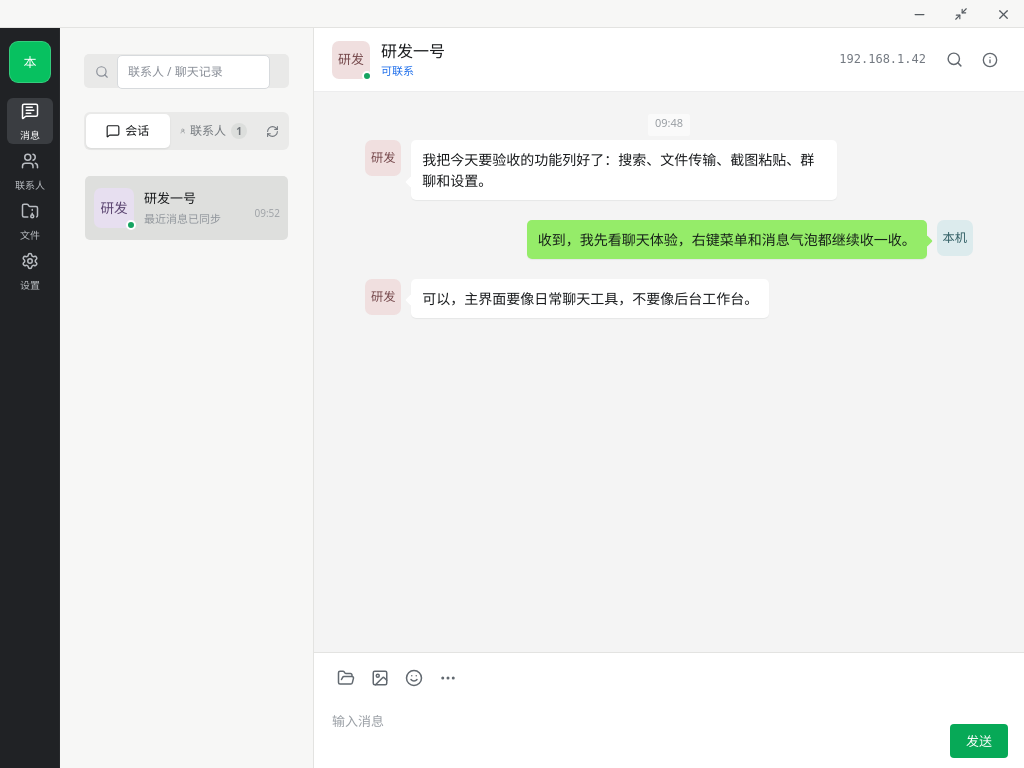
it: App › does not expose an auto discovery toggle in default network settings
Click the button titled "设置": [30, 271] box left=7, top=248, right=53, bottom=294
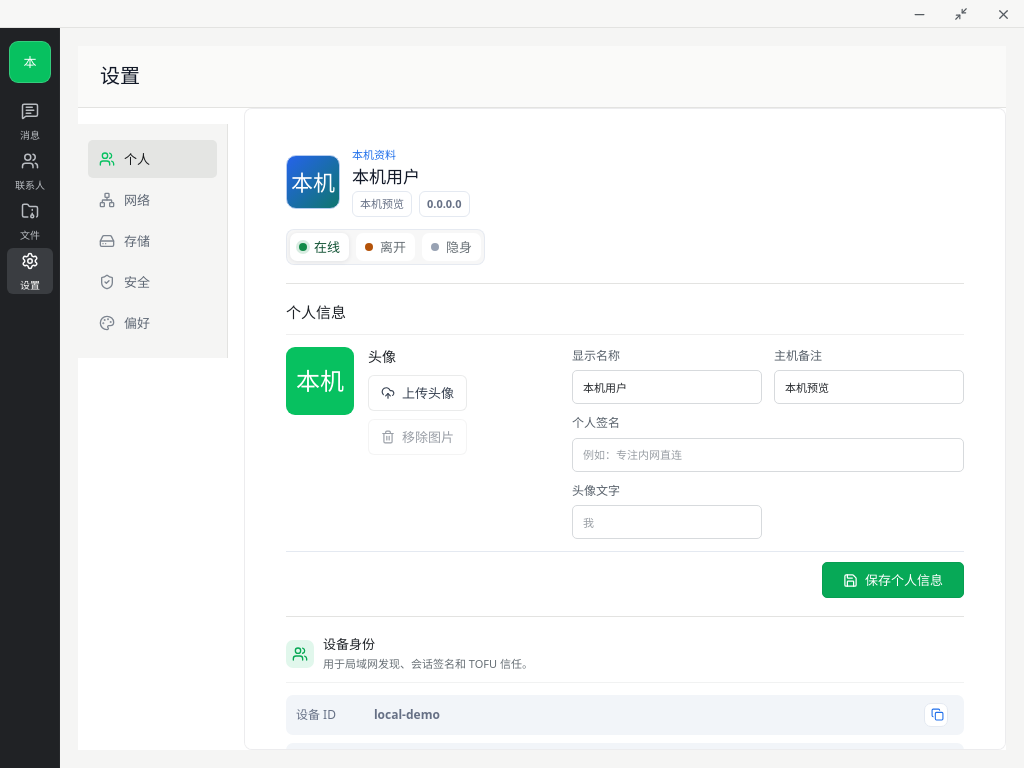
Click the button "网络": [152, 200] box left=88, top=181, right=217, bottom=219
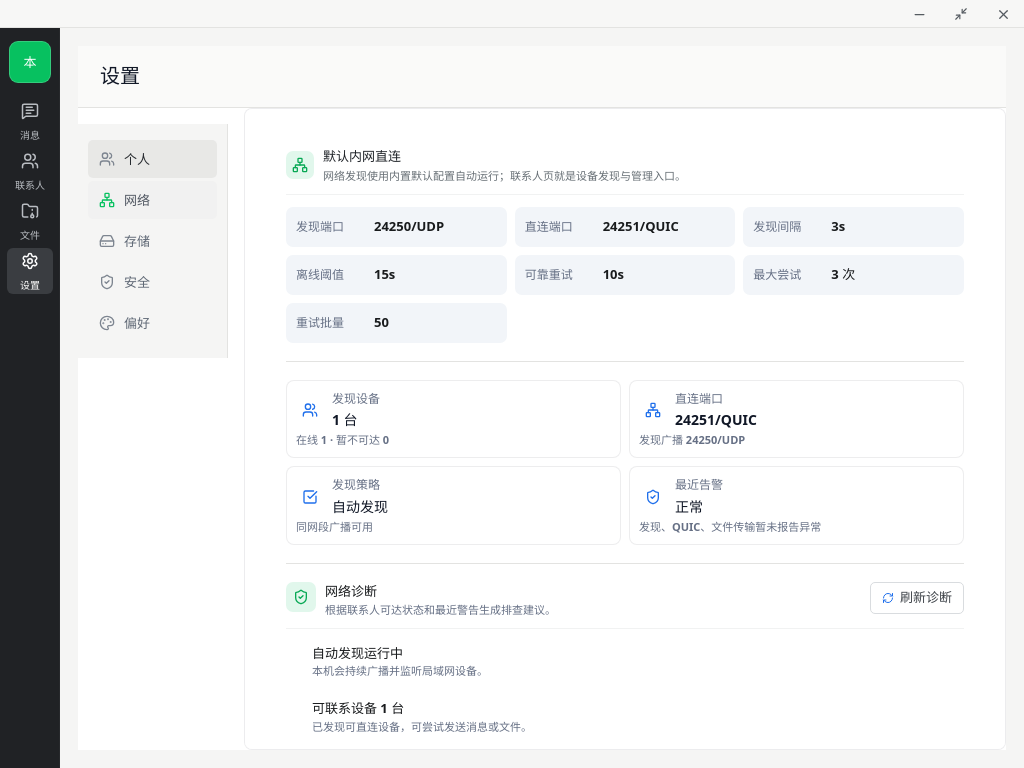
Now the text "默认内网直连" is shown, box left=323, top=147, right=401, bottom=165
